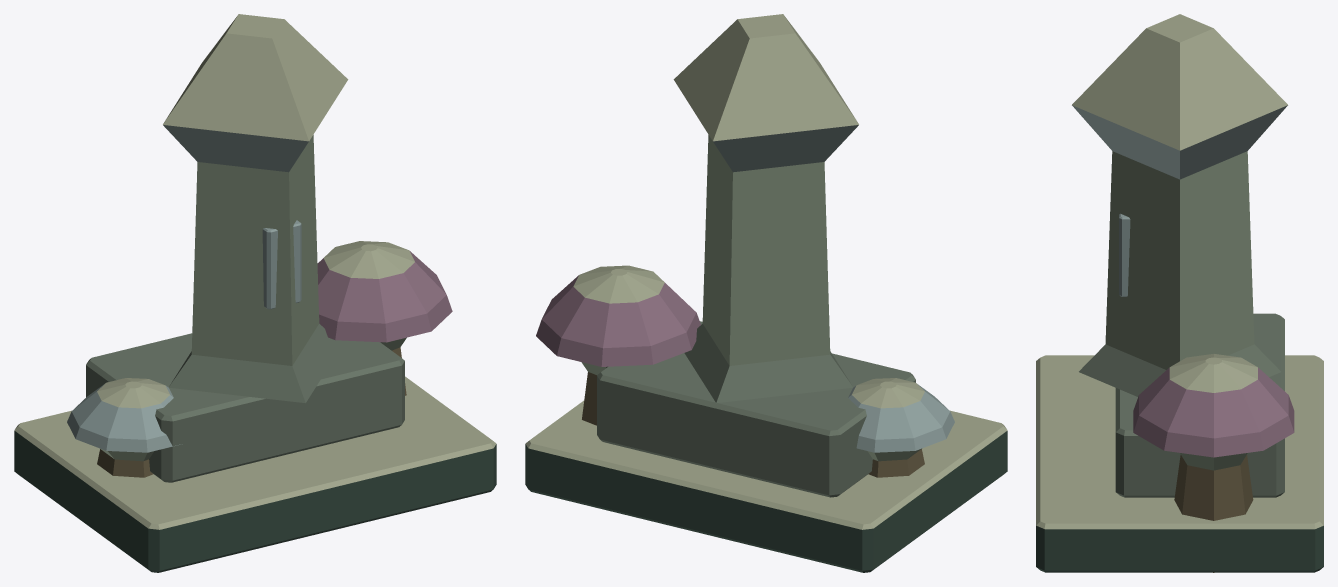
The model's file is fungal-shrine.glb.
3 renders of one model, left to right at view 1: azimuth 30°, elevation 25°; view 2: azimuth 150°, elevation 25°; view 3: azimuth 270°, elevation 25°, orthographic.
Visible parts, largest first — view 1: fungal-shrine__body; view 2: fungal-shrine__body; view 3: fungal-shrine__body.
Boxes of the visible parts, bbox=[...] form: fungal-shrine__body: bbox=[14, 14, 496, 572]; fungal-shrine__body: bbox=[525, 14, 1007, 572]; fungal-shrine__body: bbox=[1036, 14, 1323, 572].
Bounding box in the file's own units: 1.32 × 1.5 × 0.85.
